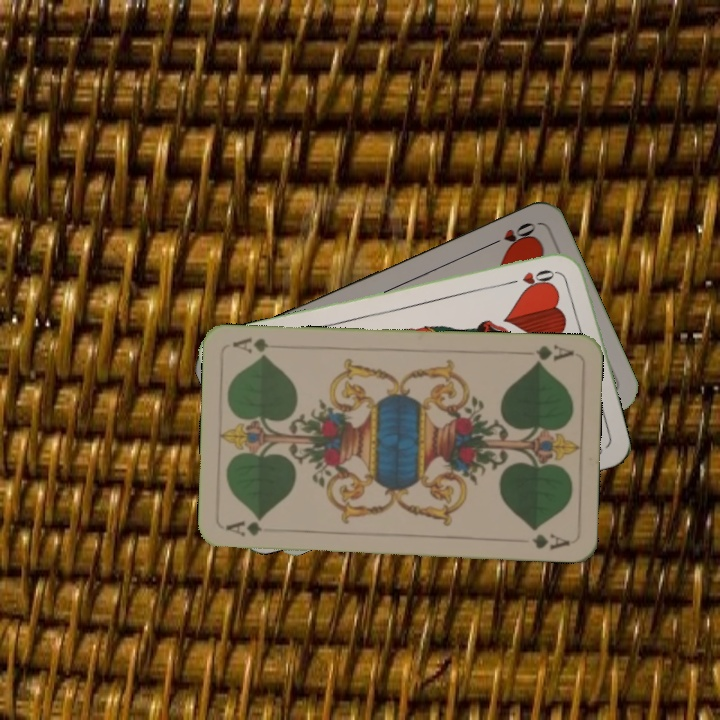GA: (531, 340, 577, 367), (222, 517, 264, 539)
HO: (483, 218, 539, 250), (503, 265, 561, 289)
